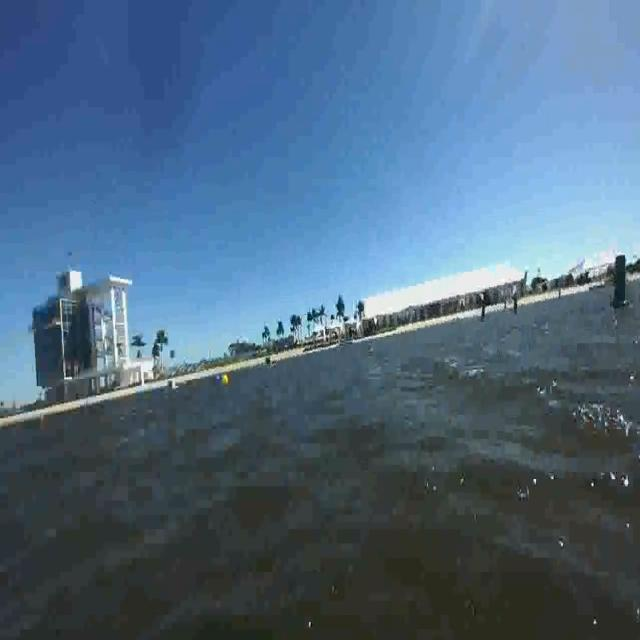green-column-buoy: (611, 253, 631, 310)
yellow-buoy: (221, 374, 229, 388)
